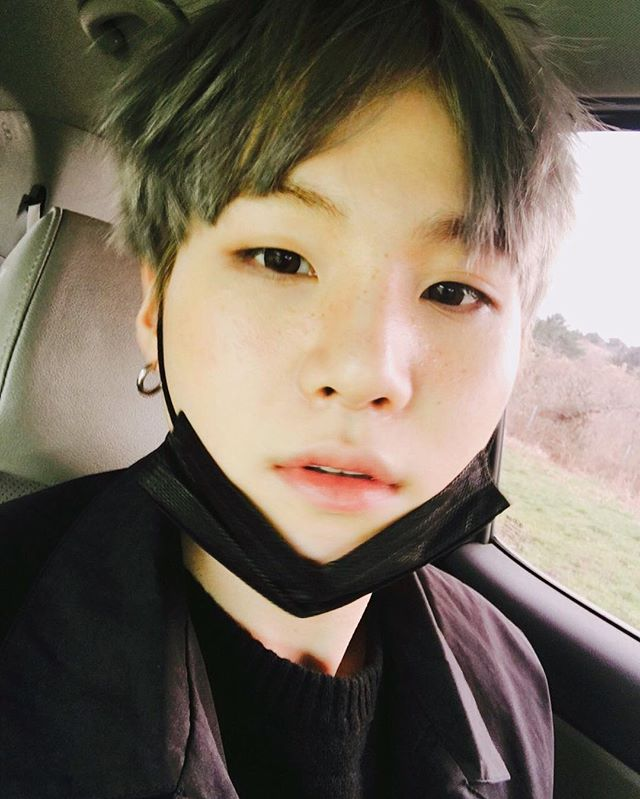mask_weared_incorrect: (179, 195, 502, 586)
